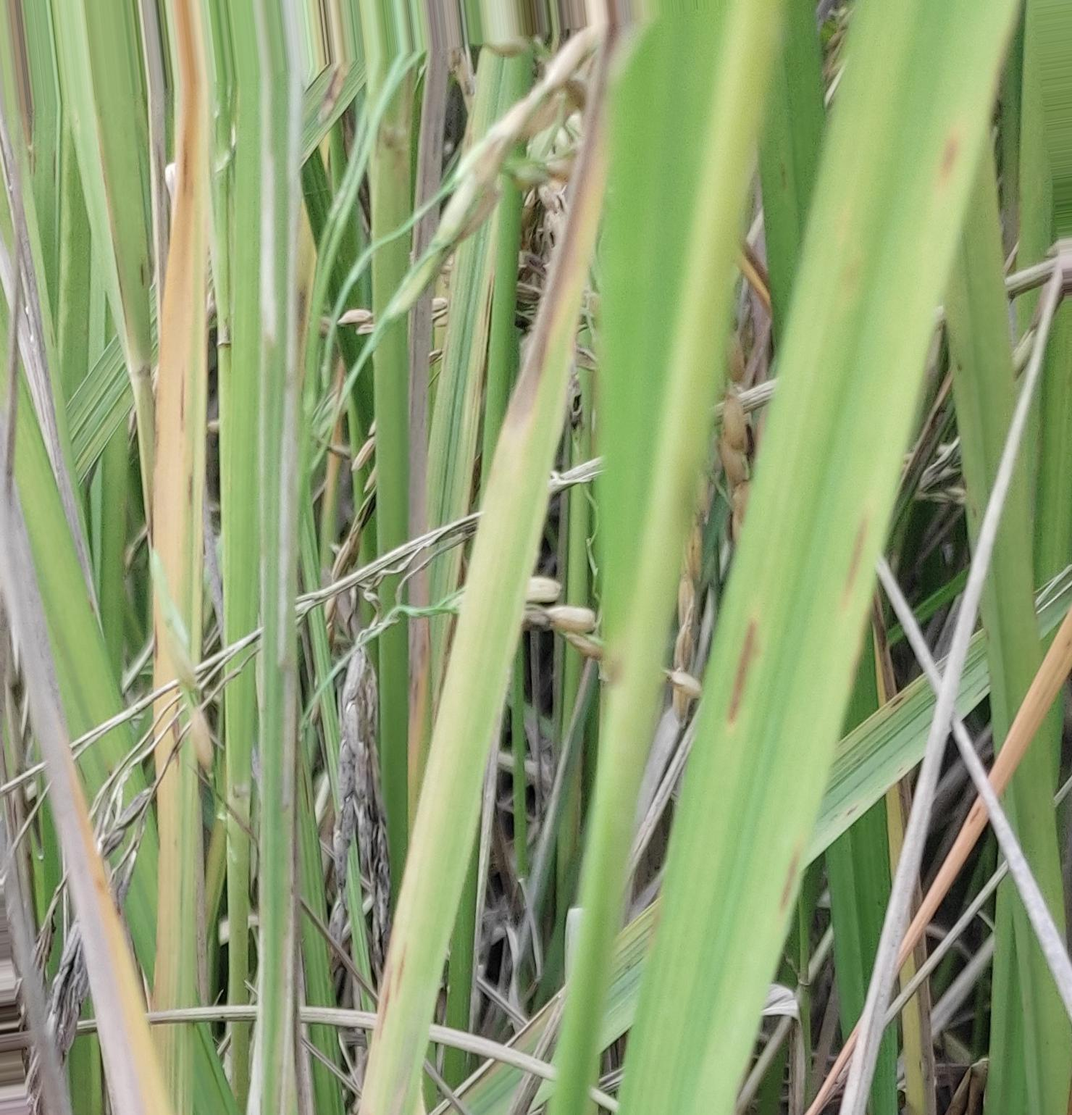LEAF: (619, 0, 1015, 1114)
NBS: (726, 617, 767, 732), (842, 511, 871, 609), (937, 119, 967, 197), (777, 845, 802, 920), (841, 253, 862, 314)
